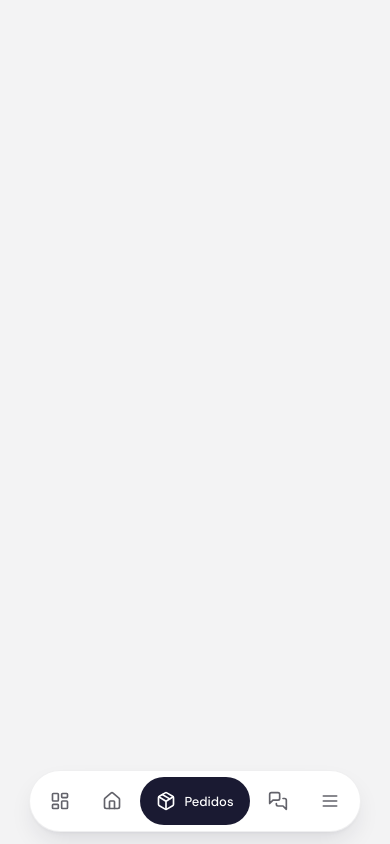
Test: MobileTabBar › el tab "Más" abre el bottom sheet (no el Sidebar primitive)
Check: the text "Ana Gómez" is not shown
Click the button named "Más opciones" at x=330, y=801, box [306,777,354,825]
(page scrolled)
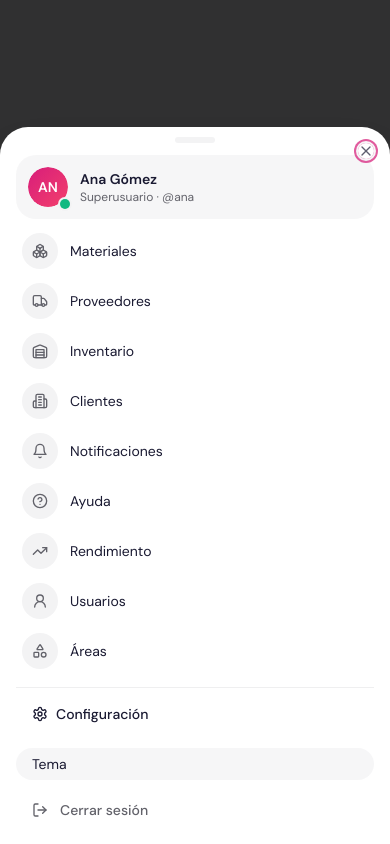
Check: the text "Ana Gómez" is shown, box [80,170,157,188]
Check: the button "Cerrar sesión" is shown, box [16,792,374,828]
